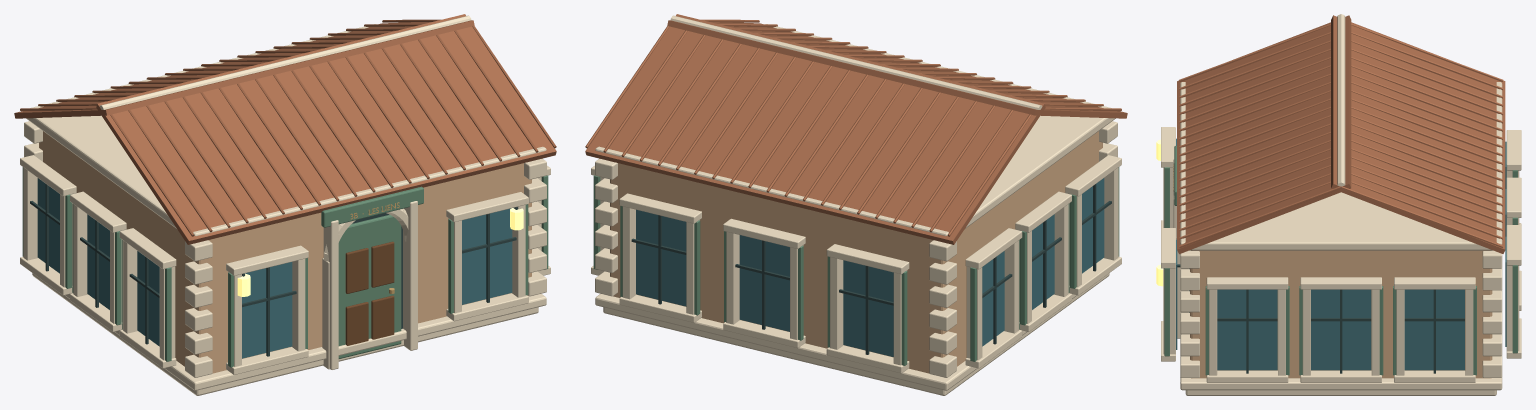
File: italie-1.glb
The picture shows the model from 3 angles, left to right: view 1: azimuth 30°, elevation 25°; view 2: azimuth 150°, elevation 25°; view 3: azimuth 270°, elevation 25°; orthographic projection. The views are drawn at different scales.
Parts seen in each view (by area): view 1: italie-1_Regional roof, italie-1_Dressed stone, italie-1_Masonry plaster, italie-1_Window blue, italie-1_Regional painted wood, italie-1_Walnut, italie-1_Forged midnight, italie-1_Warm light; view 2: italie-1_Regional roof, italie-1_Dressed stone, italie-1_Masonry plaster, italie-1_Window blue, italie-1_Regional painted wood, italie-1_Forged midnight; view 3: italie-1_Regional roof, italie-1_Dressed stone, italie-1_Window blue, italie-1_Masonry plaster, italie-1_Regional painted wood, italie-1_Forged midnight.
Part boxes in pixels (left/top/right/bottom): italie-1_Regional roof: left=14, top=14, right=556, bottom=244; italie-1_Dressed stone: left=20, top=15, right=550, bottom=395; italie-1_Masonry plaster: left=39, top=131, right=531, bottom=373; italie-1_Window blue: left=37, top=178, right=512, bottom=358; italie-1_Regional painted wood: left=22, top=167, right=548, bottom=367; italie-1_Walnut: left=345, top=241, right=394, bottom=345; italie-1_Forged midnight: left=30, top=184, right=518, bottom=356; italie-1_Warm light: left=237, top=208, right=523, bottom=296; italie-1_Regional roof: left=585, top=14, right=1127, bottom=244; italie-1_Dressed stone: left=591, top=15, right=1121, bottom=395; italie-1_Masonry plaster: left=610, top=131, right=1102, bottom=373; italie-1_Window blue: left=636, top=178, right=1104, bottom=356; italie-1_Regional painted wood: left=593, top=167, right=1119, bottom=365; italie-1_Forged midnight: left=631, top=184, right=1111, bottom=354; italie-1_Regional roof: left=1177, top=15, right=1505, bottom=254; italie-1_Dressed stone: left=1161, top=14, right=1521, bottom=395; italie-1_Window blue: left=1176, top=138, right=1506, bottom=370; italie-1_Masonry plaster: left=1190, top=250, right=1492, bottom=378; italie-1_Regional painted wood: left=1164, top=145, right=1517, bottom=375; italie-1_Forged midnight: left=1177, top=264, right=1464, bottom=373.
Bounding box in the file's own units: 13.94 × 8.03 × 12.09.
